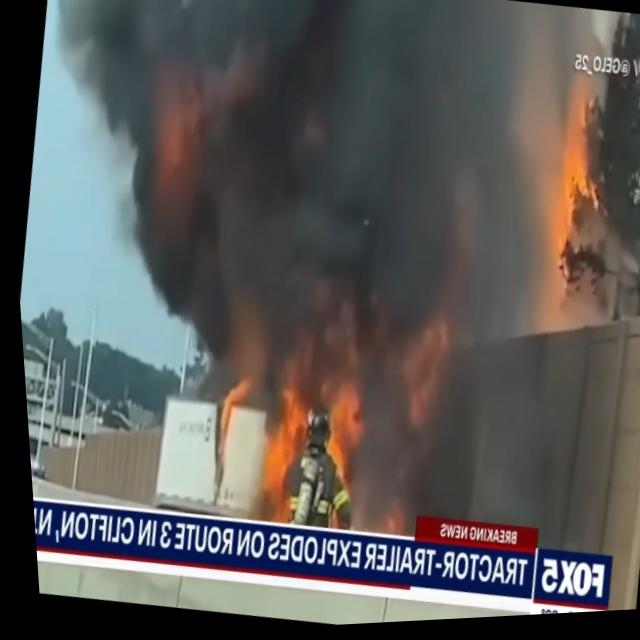Fire: (526, 112, 618, 294), (314, 384, 372, 479), (237, 409, 289, 493)
